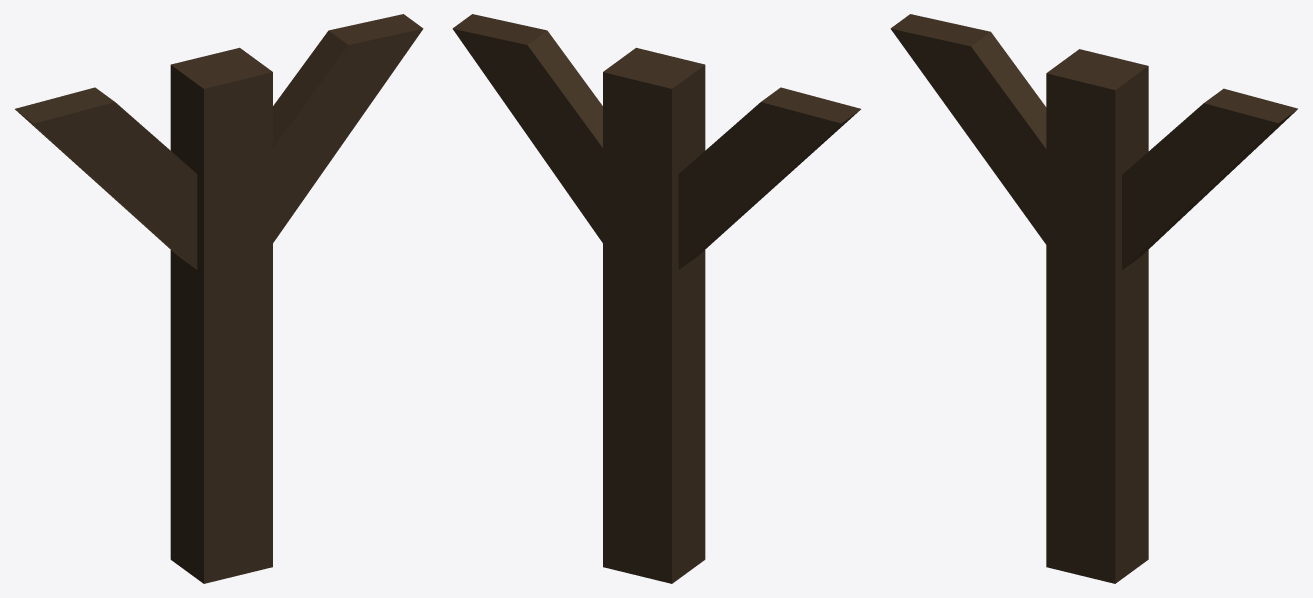
The model's file is OC_LOB_PLANK_INDOOR.OBJ.
3 renders of one model, left to right at view 1: azimuth 30°, elevation 25°; view 2: azimuth 150°, elevation 25°; view 3: azimuth 330°, elevation 25°, orthographic.
Parts seen in each view (by area): view 1: OC_LOB_PLANK_INDOOR; view 2: OC_LOB_PLANK_INDOOR; view 3: OC_LOB_PLANK_INDOOR.
Part boxes in pixels (<box>): OC_LOB_PLANK_INDOOR: <box>15,14,423,583</box>; OC_LOB_PLANK_INDOOR: <box>452,14,860,583</box>; OC_LOB_PLANK_INDOOR: <box>890,14,1297,583</box>.
Size of the model in its own units: 3.37 by 4.12 by 0.5.
